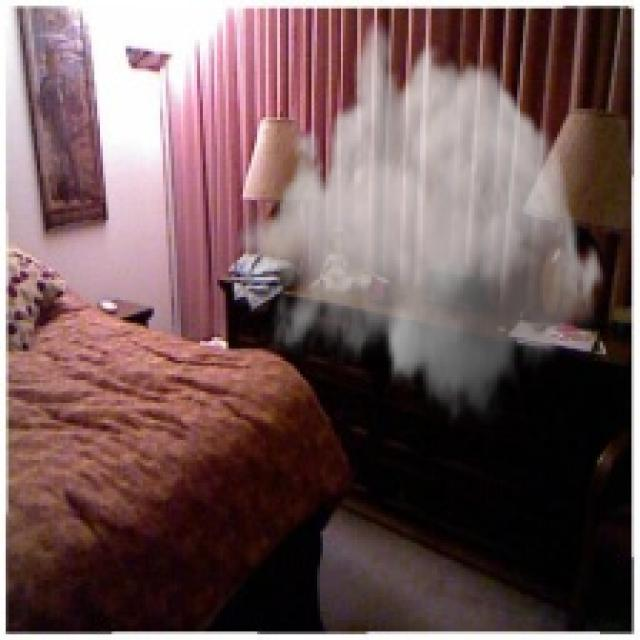smoke: (234, 14, 606, 426)
